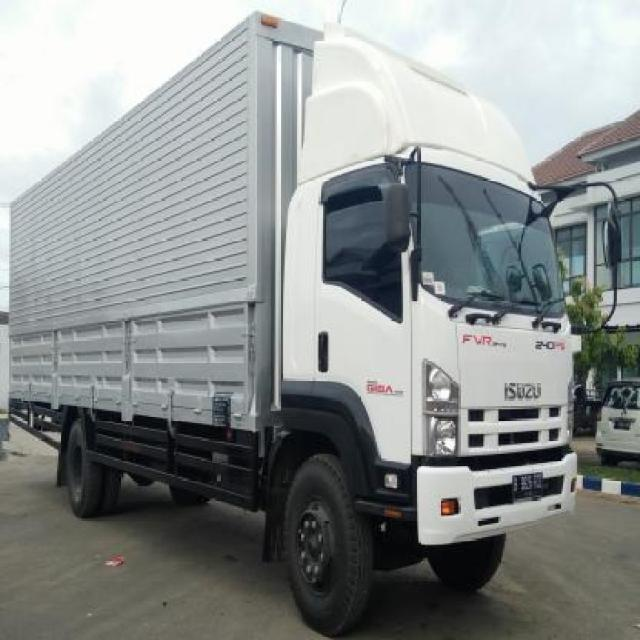truck: (8, 14, 623, 628)
